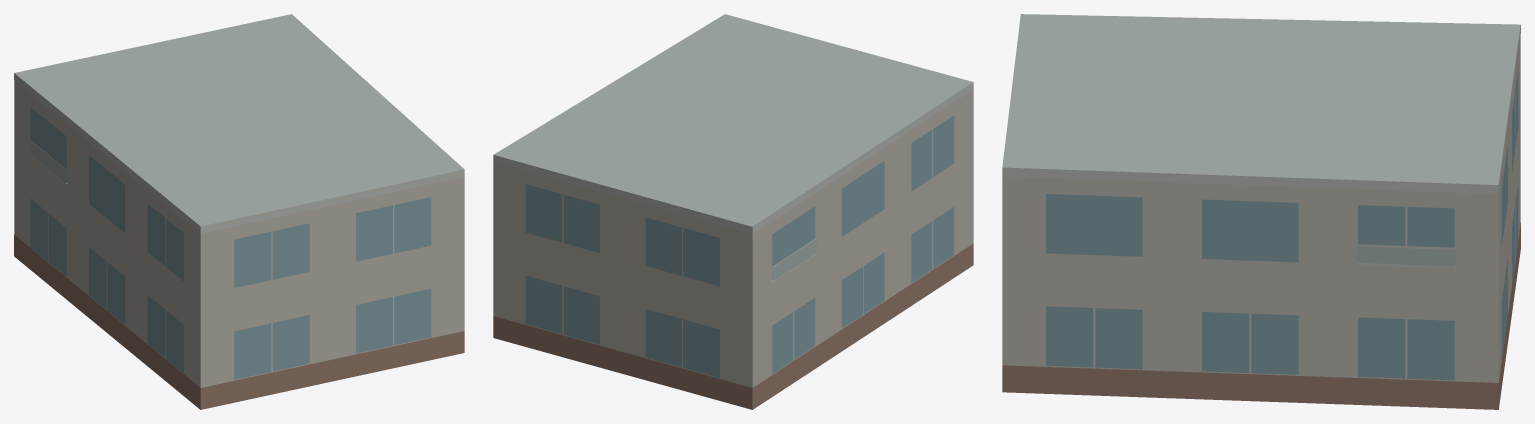
File: survey-upis-32667169.glb
The picture shows the model from 3 angles, left to right: view 1: azimuth 30°, elevation 25°; view 2: azimuth 150°, elevation 25°; view 3: azimuth 270°, elevation 25°; orthographic projection. The views are drawn at different scales.
Parts seen in each view (by area): view 1: survey-upis-32667169.tmp; view 2: survey-upis-32667169.tmp; view 3: survey-upis-32667169.tmp.
Part boxes in pixels (x1,y1,x2,y2): survey-upis-32667169.tmp: (14,14,464,409); survey-upis-32667169.tmp: (493,14,973,409); survey-upis-32667169.tmp: (1002,14,1520,409).
Size of the model in its own units: 9.97 by 6.1 by 12.76.
